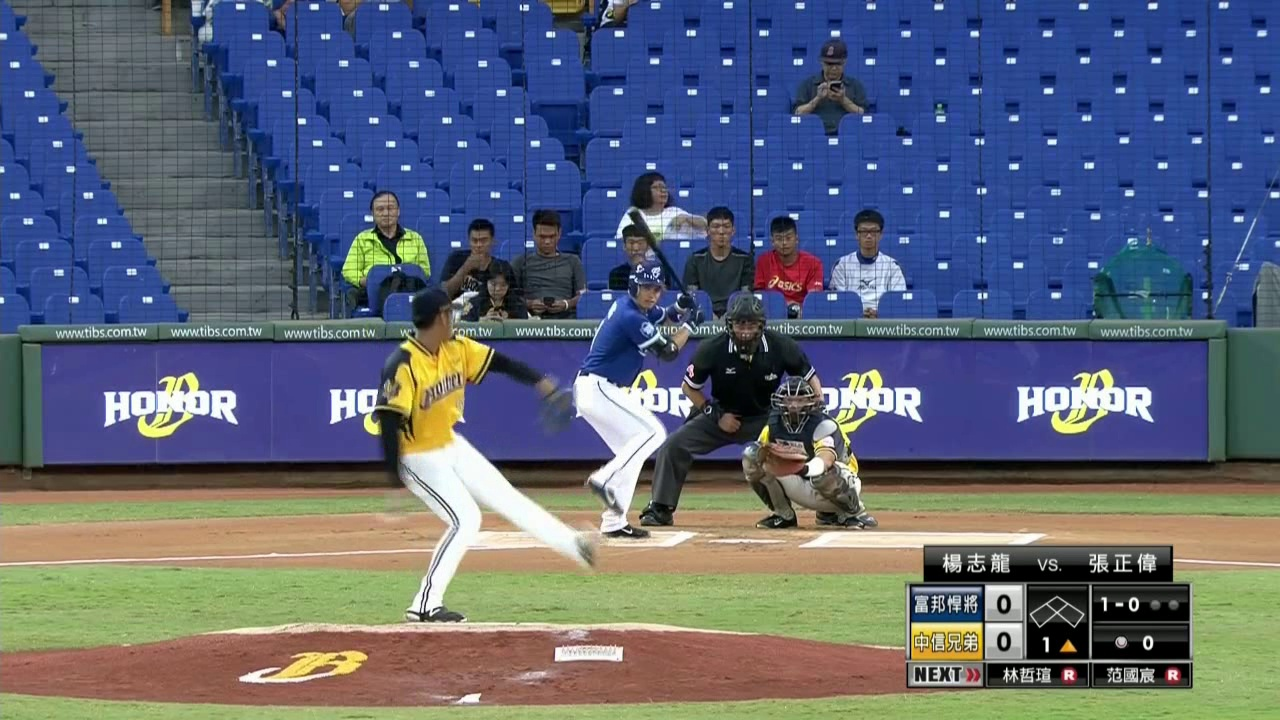ball: (375, 509, 411, 526)
base: (1029, 593, 1087, 630)
bat: (623, 201, 690, 297)
out: (1148, 597, 1180, 612)
score1: (985, 585, 1021, 621)
score2: (985, 623, 1022, 658)
session: (1039, 636, 1079, 654)
strikeball: (1097, 595, 1142, 615)
total: (1106, 629, 1164, 653)
